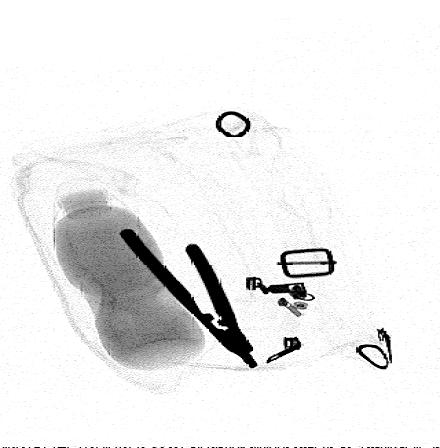Pliers: (114, 226, 259, 369)
